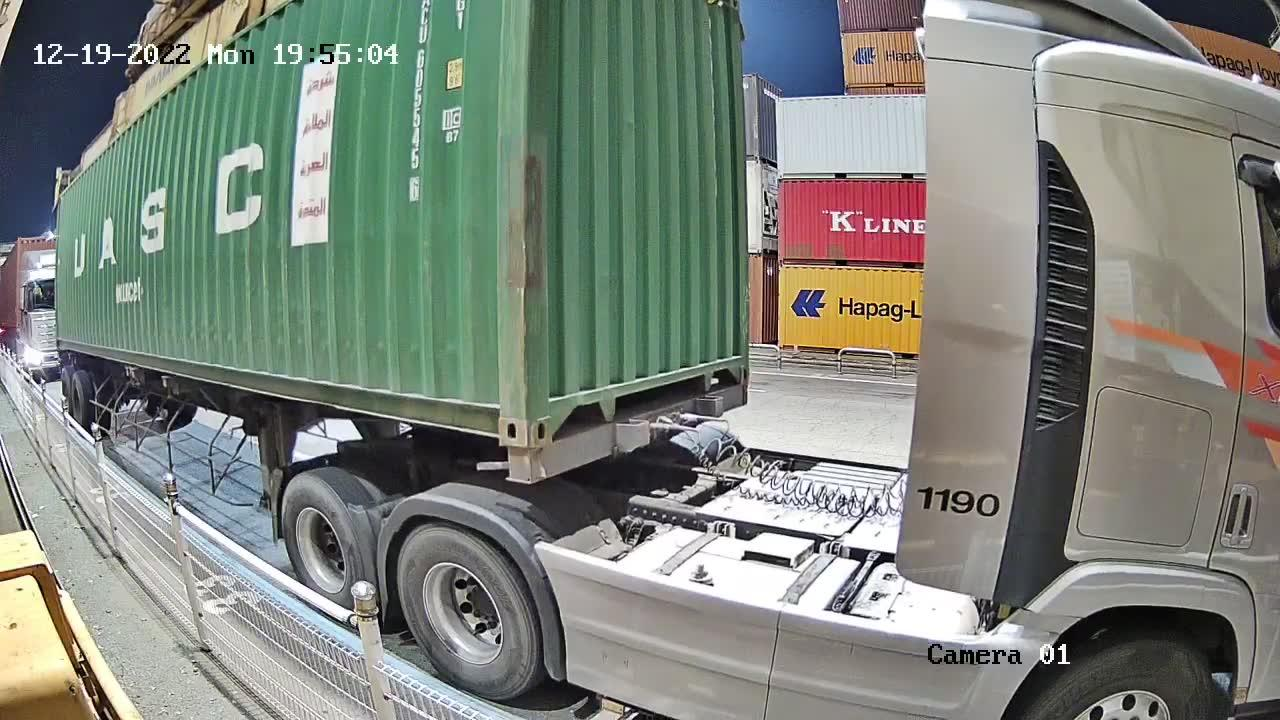Chassis: (508, 385, 748, 483)
Cone: (501, 449, 531, 484)
Hole_L: (528, 381, 579, 449)
Hole_R: (462, 379, 529, 447), (716, 342, 751, 388)
Tire: (399, 527, 533, 698), (281, 477, 359, 600)
